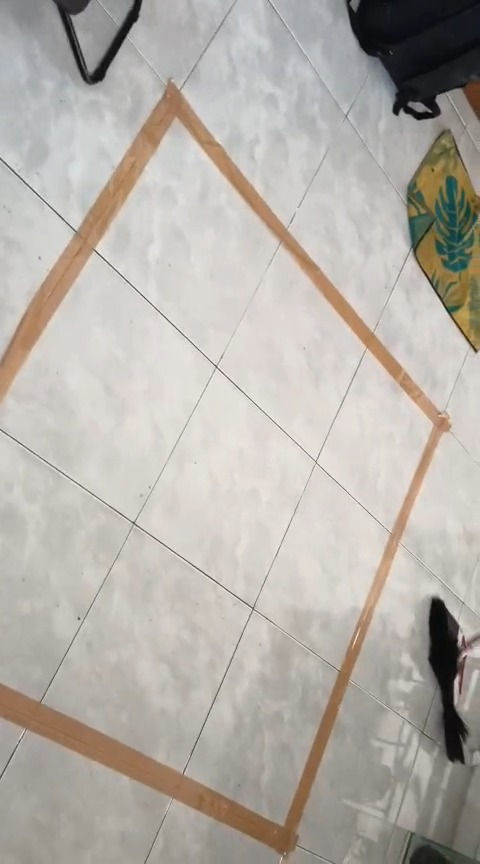floor marking: (0, 81, 449, 855)
